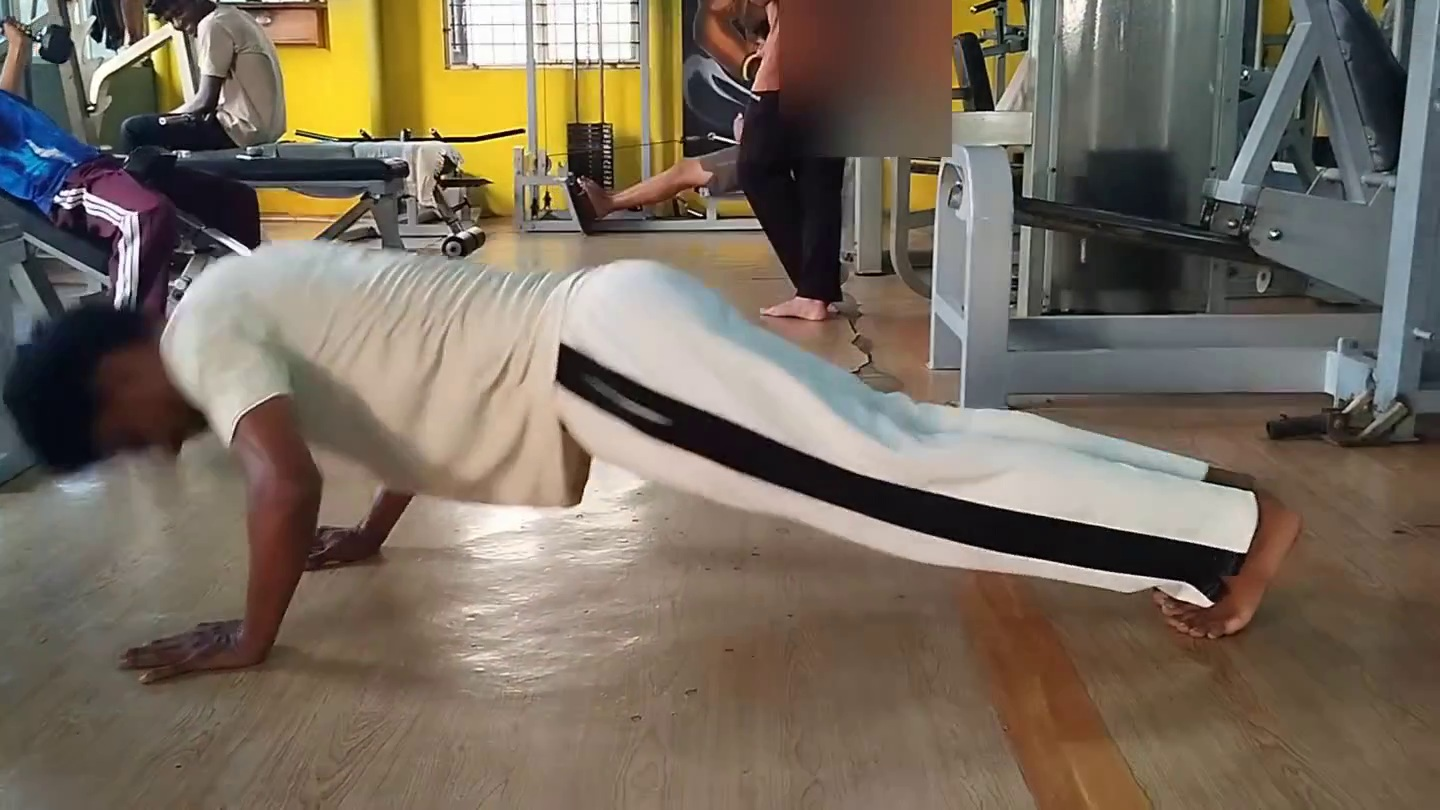push_up_incorrect: (20, 248, 1076, 747)
